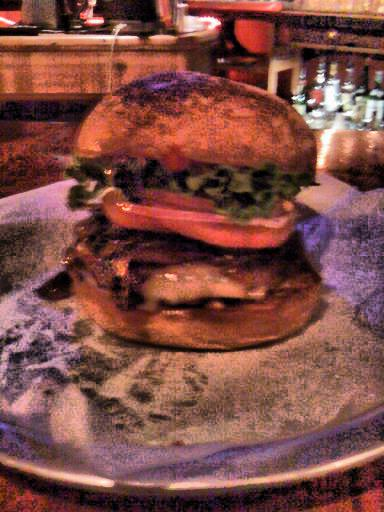burger: (48, 80, 321, 337)
